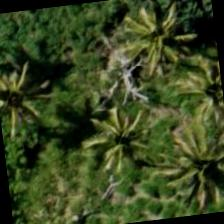Kelapa_Sawit: (66, 91, 166, 190), (107, 0, 208, 89), (148, 118, 223, 218), (0, 50, 57, 147), (167, 49, 223, 145)
